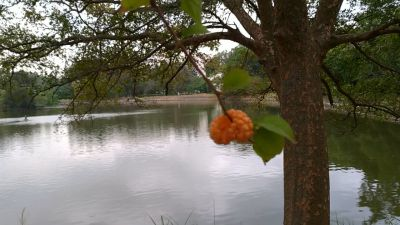eggs: (208, 106, 255, 145)
